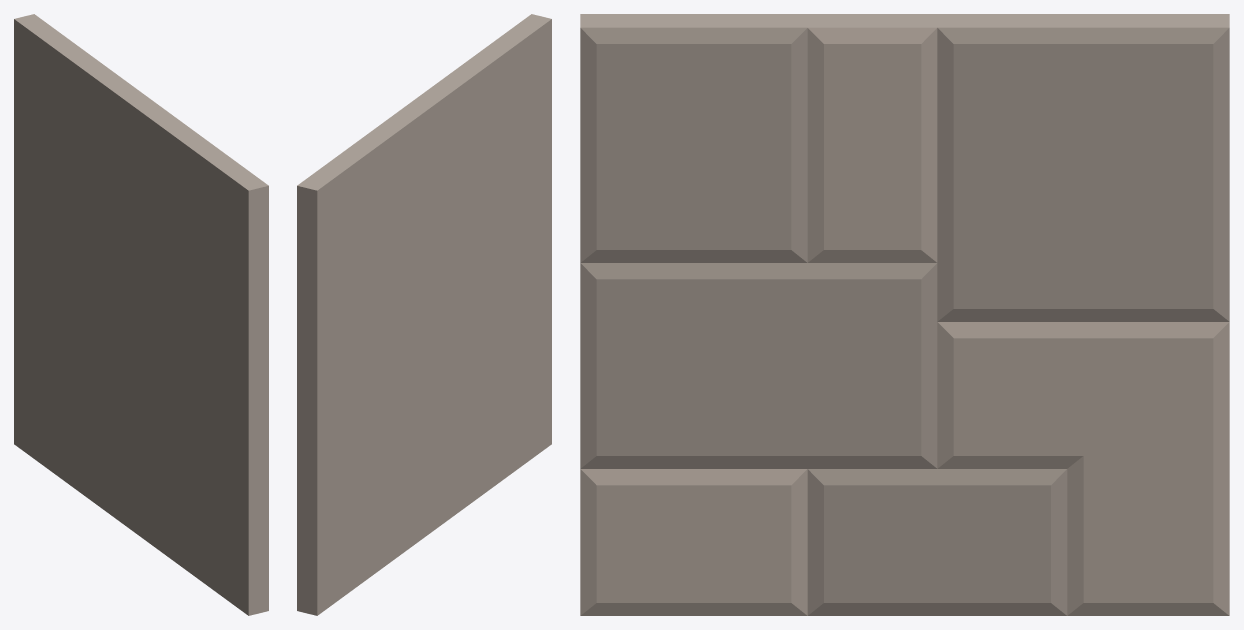
Rendered from paredPiedra1_Fixed.glb.
3 views of the same model, side by side, from view 1: azimuth 30°, elevation 25°; view 2: azimuth 150°, elevation 25°; view 3: azimuth 270°, elevation 25° (orthographic). The views are drawn at different scales.
Visible parts, largest first — view 1: Pared1; view 2: Pared1; view 3: Pared1.
Boxes of the visible parts, bbox=[...] form: Pared1: bbox=[14, 14, 268, 615]; Pared1: bbox=[297, 14, 551, 615]; Pared1: bbox=[580, 14, 1229, 615].
Size of the model in its own units: 0.0563 by 1 by 1.
